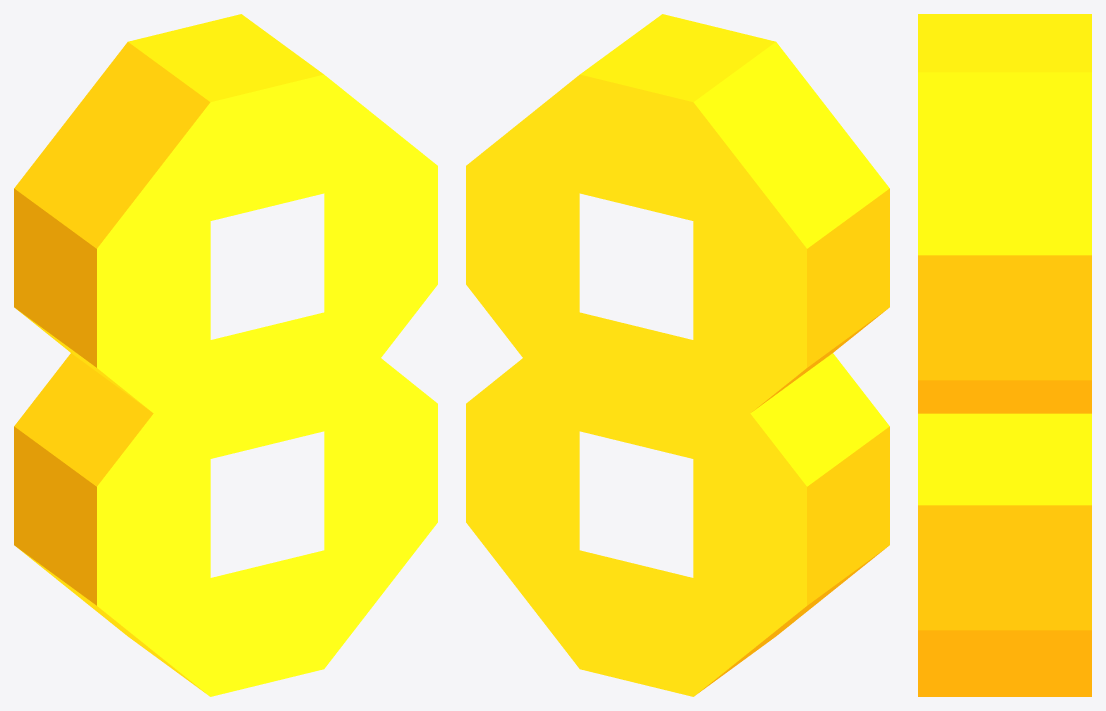
The model's file is 37aa5651-ccd5-4dc5-9e68-a6e556e7134c.glb.
3 renders of one model, left to right at view 1: azimuth 30°, elevation 25°; view 2: azimuth 150°, elevation 25°; view 3: azimuth 270°, elevation 25°, orthographic. The views are drawn at different scales.
Parts seen in each view (by area): view 1: 8_DeltaBlock_Yellow; view 2: 8_DeltaBlock_Yellow; view 3: 8_DeltaBlock_Yellow.
Part boxes in pixels (x1,y1,x2,y2): 8_DeltaBlock_Yellow: (14, 14, 437, 696); 8_DeltaBlock_Yellow: (466, 14, 889, 696); 8_DeltaBlock_Yellow: (918, 14, 1091, 696).
Size of what is drawn, in the model's own units: 0.1071 by 0.1786 by 0.045.
Materials: 2 (2 with a texture image).
